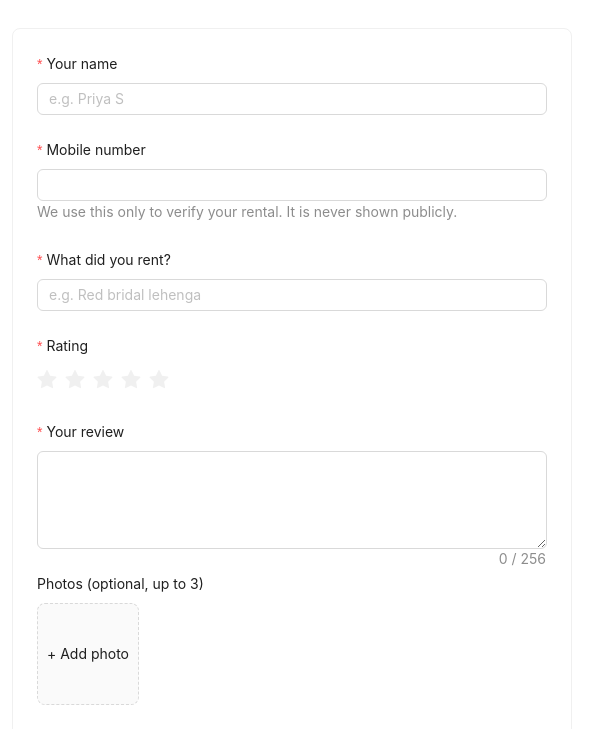
Test: SubmitReviewPage › blocks submission when no rating is selected
In the field labelled "Your name": (292, 99) [37,83,547,115], type "Priya S"
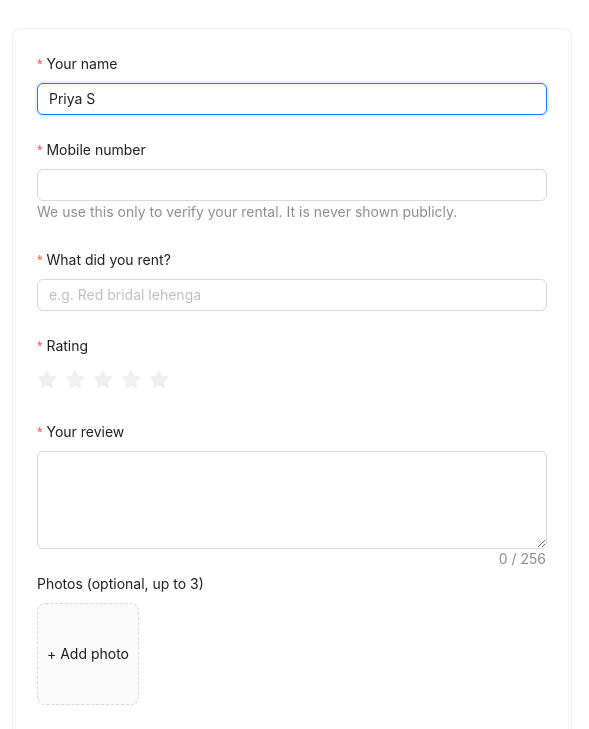
In the field labelled "Mobile number": (292, 185) [37,169,547,201], type "9876543210"
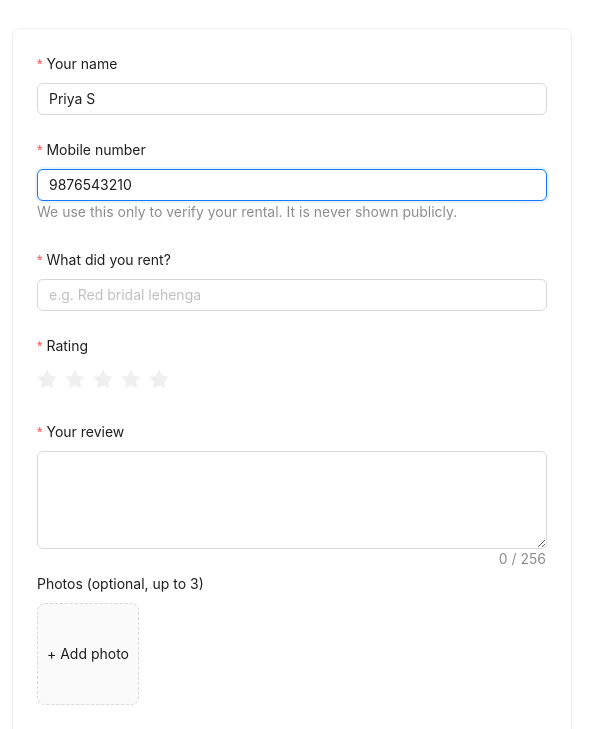
In the field labelled "What did you rent?": (292, 295) [37,279,547,311], type "Red lehenga"
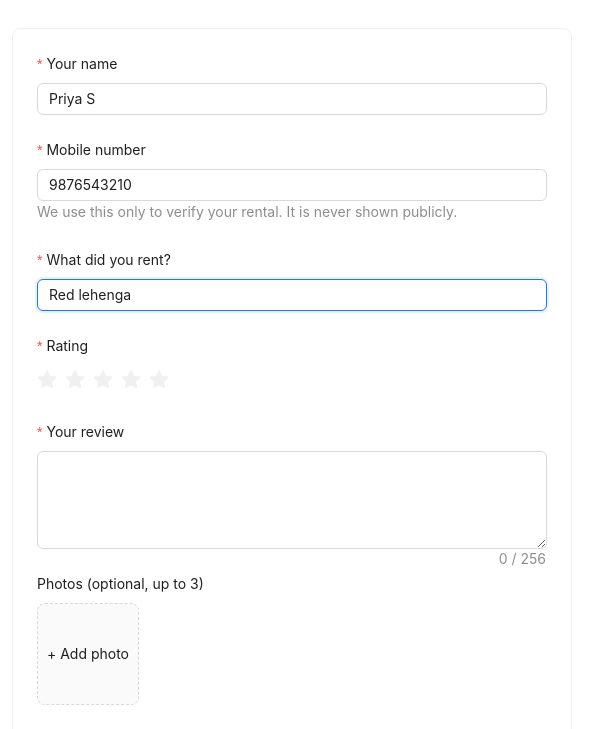
In the text box labelled "Your review": (292, 500) [38,452,546,548], type "Beautiful outfit."
(page scrolled)
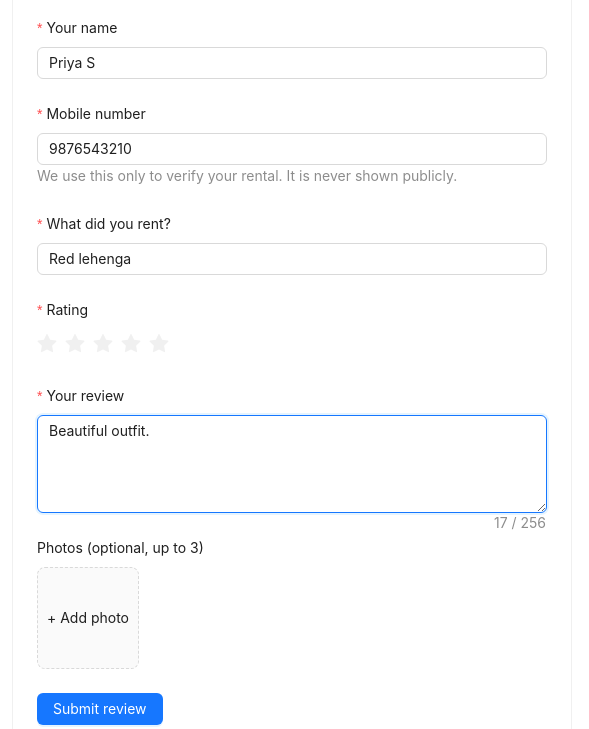
Click the button "Submit review": (100, 709) [37,693,163,725]
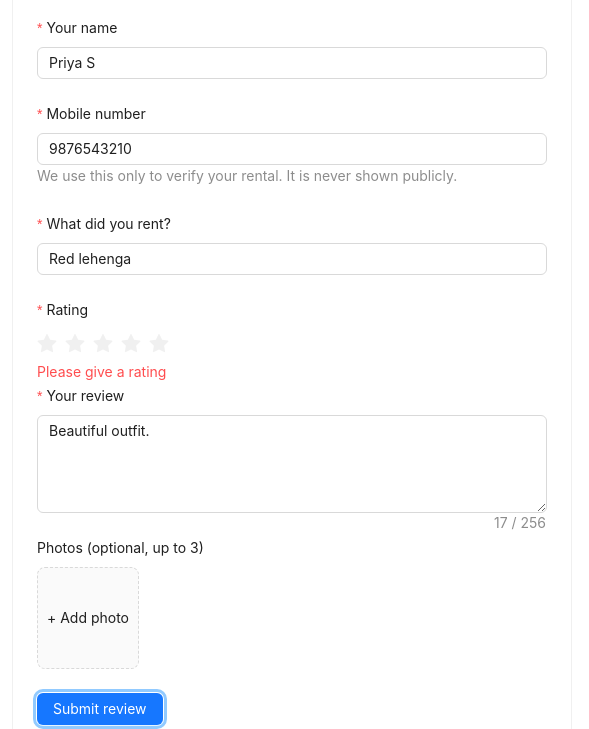
Expected: the text "Please give a rating" is shown, [37,363,166,380]
